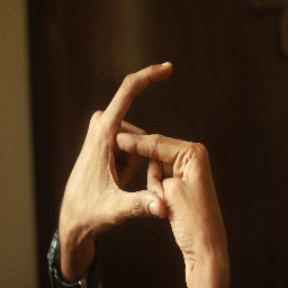E: (96, 52, 204, 219)
